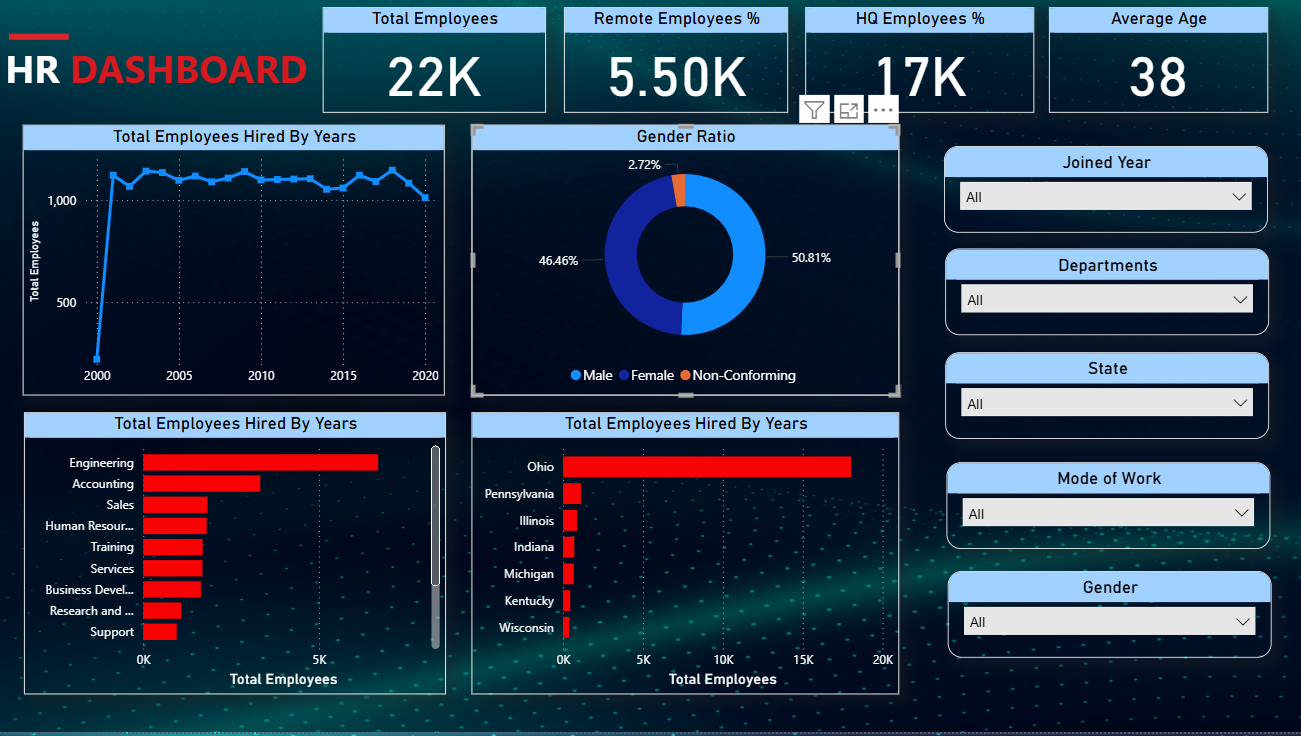

The page's visual inventory and layout, read from the dashboard file:
{"tool":"powerbi","page":{"name":"Page 1","canvas":[1280,720],"ordinal":0},"visuals":[{"type":"textbox","box":[1.4,39.8,332.1,65.9],"z":0},{"type":"shape","box":[10,8.8,58.8,62.5],"z":1000},{"type":"card","title":"Total Employees","fields":{"Values":["HR_Analytics_Data.Total Employees"]},"box":[317,11,218.2,102.9],"z":2000},{"type":"card","title":"Remote Employees %","fields":{"Values":["HR_Analytics_Data.Percent Remote Employees"]},"box":[553,11,219.6,102.9],"z":3000},{"type":"card","title":"HQ Employees %","fields":{"Values":["HR_Analytics_Data.HQ Employees"]},"box":[789,11,223.7,102.9],"z":4000},{"type":"card","title":"Average Age","fields":{"Values":["HR_Analytics_Data.Average Age"]},"box":[1027.8,11,214.1,102.9],"z":5000},{"type":"lineChart","title":"Total Employees Hired By Years","fields":{"Y":["HR_Analytics_Data.Total Employees"],"Category":["HR_Analytics_Data.hire_date.Variation.Date Hierarchy.Year"]},"box":[23.3,126.2,413,264.8],"z":6000},{"type":"donutChart","title":"Gender Ratio","fields":{"Y":["CountNonNull(HR_Analytics_Data.gender)"],"Category":["HR_Analytics_Data.gender"]},"box":[462.4,126.2,418.5,264.8],"z":7000},{"type":"slicer","title":"Joined Year","fields":{"Values":["HR_Analytics_Data.Joined Year"]},"box":[924.9,146.8,317,85.1],"z":9000},{"type":"slicer","title":"Departments","fields":{"Values":["HR_Analytics_Data.department"]},"box":[925.6,247,317,85.1],"z":10000},{"type":"slicer","title":"State","fields":{"Values":["HR_Analytics_Data.race"]},"box":[926.2,348.5,317,85.1],"z":11000},{"type":"slicer","title":"Mode of Work","fields":{"Values":["HR_Analytics_Data.location"]},"box":[926.9,455.6,317,85.1],"z":12000},{"type":"slicer","title":"Gender","fields":{"Values":["HR_Analytics_Data.gender"]},"box":[927.6,562.6,317,85.1],"z":13000},{"type":"barChart","title":"Total Employees Hired By Years","fields":{"Y":["HR_Analytics_Data.Total Employees"],"Category":["HR_Analytics_Data.department"]},"box":[24.7,407.5,413,275.8],"z":14000},{"type":"barChart","title":"Total Employees Hired By Years","fields":{"Y":["HR_Analytics_Data.Total Employees"],"Category":["HR_Analytics_Data.location_state"]},"box":[462.4,407.5,418.5,275.8],"z":15000}]}

Visuals, with their boxes in screenshot pixels (x1, y1, x2, y2), scaled from the page's 1280x720 canvas onto the 1301x736 screenshot:
textbox: bbox(1, 41, 339, 108)
shape: bbox(10, 9, 70, 73)
"Total Employees" card: bbox(322, 11, 544, 116)
"Remote Employees %" card: bbox(562, 11, 785, 116)
"HQ Employees %" card: bbox(802, 11, 1029, 116)
"Average Age" card: bbox(1045, 11, 1262, 116)
"Total Employees Hired By Years" lineChart: bbox(24, 129, 443, 400)
"Gender Ratio" donutChart: bbox(470, 129, 895, 400)
"Joined Year" slicer: bbox(940, 150, 1262, 237)
"Departments" slicer: bbox(941, 252, 1263, 339)
"State" slicer: bbox(941, 356, 1264, 443)
"Mode of Work" slicer: bbox(942, 466, 1264, 553)
"Gender" slicer: bbox(943, 575, 1265, 662)
"Total Employees Hired By Years" barChart: bbox(25, 417, 445, 698)
"Total Employees Hired By Years" barChart: bbox(470, 417, 895, 698)
